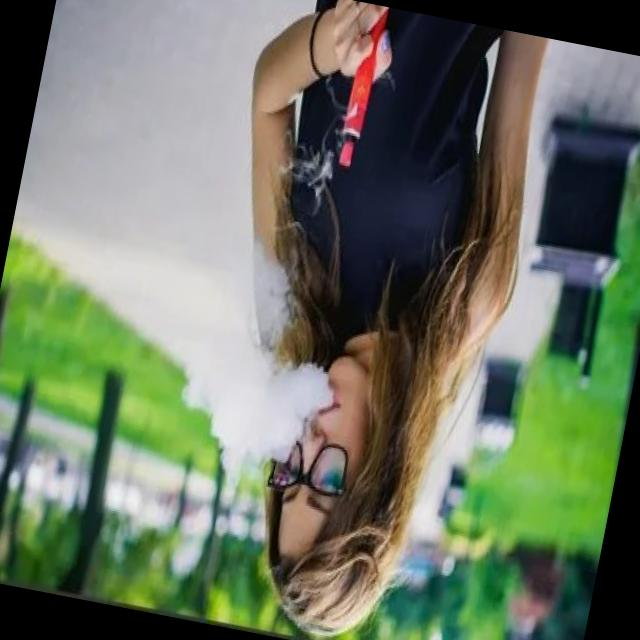smoke: (330, 2, 392, 176)
